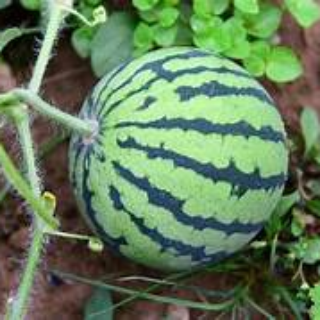dua_hau: (69, 49, 284, 272)
